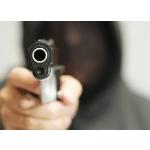Pistol: (28, 36, 68, 104)
